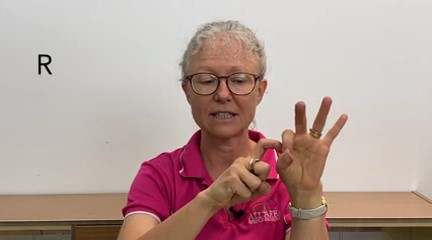R: (214, 91, 352, 216)
